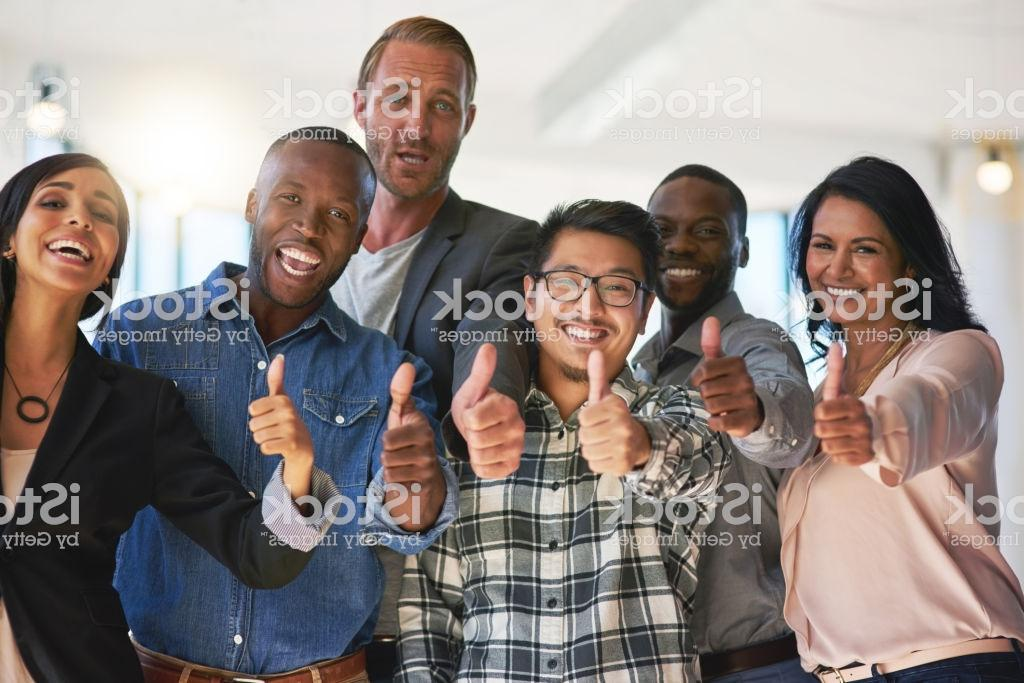thumbsup: (449, 341, 527, 482), (576, 346, 649, 479), (378, 360, 442, 500), (690, 316, 760, 439), (811, 340, 876, 470), (246, 351, 310, 460)
